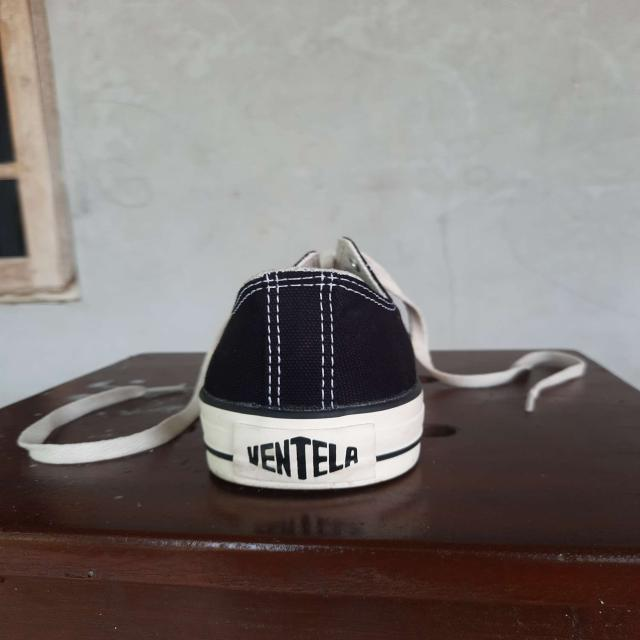shoe: (194, 233, 427, 495)
